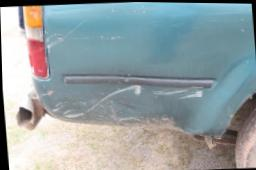Fender: (42, 77, 213, 135)
